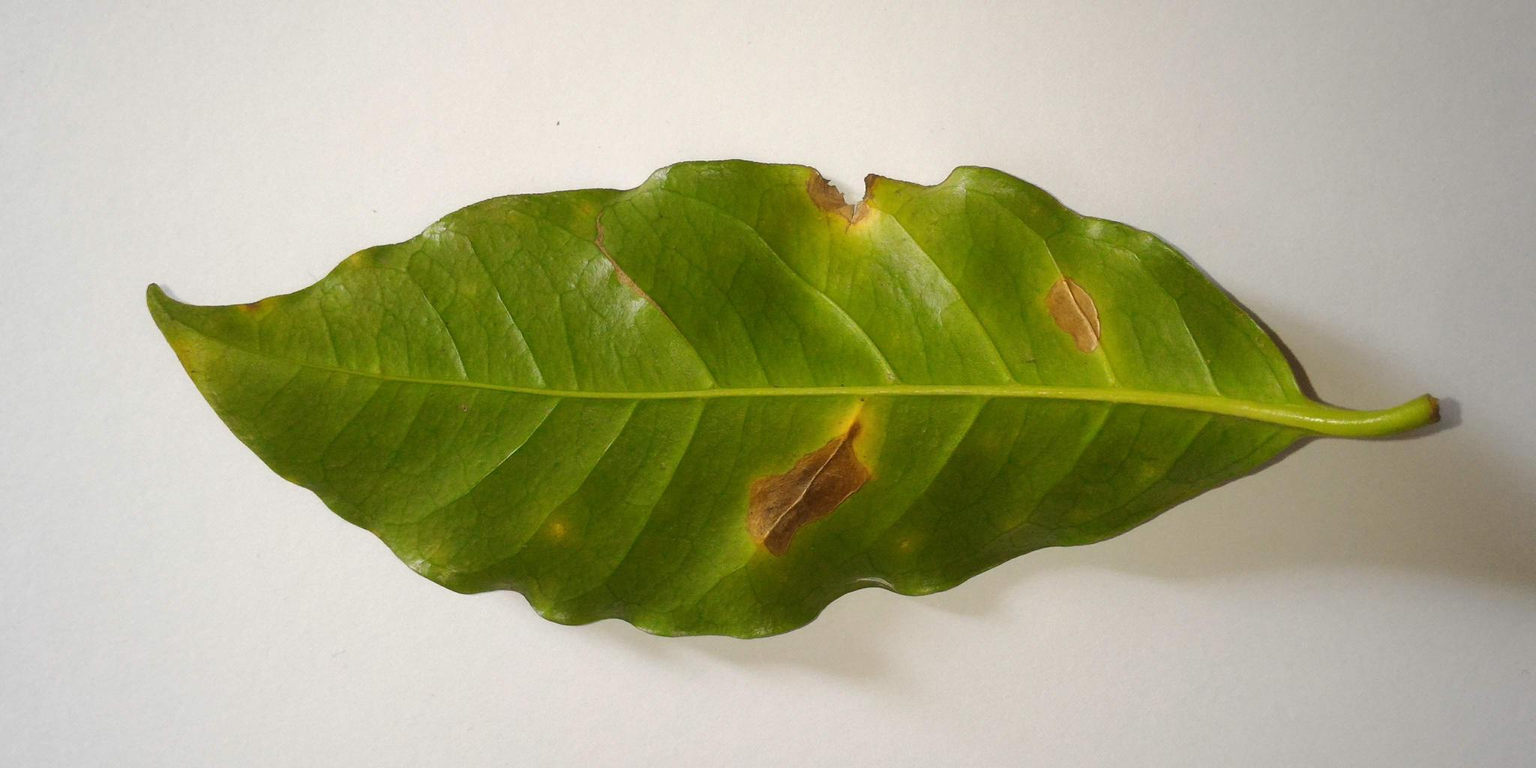Miner: (739, 404, 881, 564), (1031, 262, 1116, 362)
